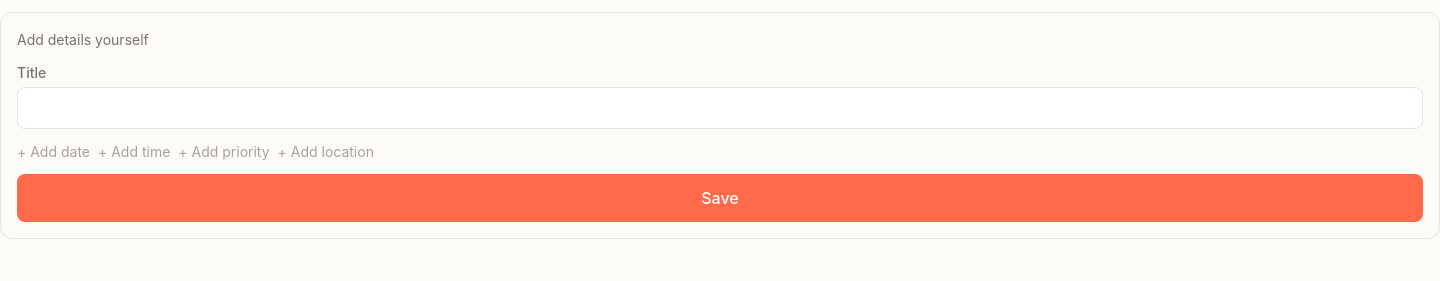
ExtractionForm › manual state › Save with empty title shows inline error
Clear the field labelled "Title" at (720, 108), box x1=17 y1=87 x2=1423 y2=129
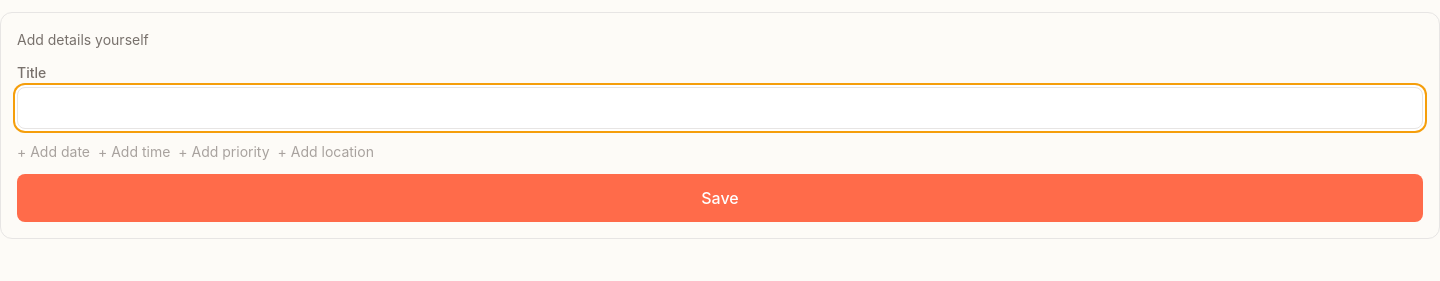
Click the button "Save".
click(720, 198)  # box x1=17 y1=174 x2=1423 y2=222
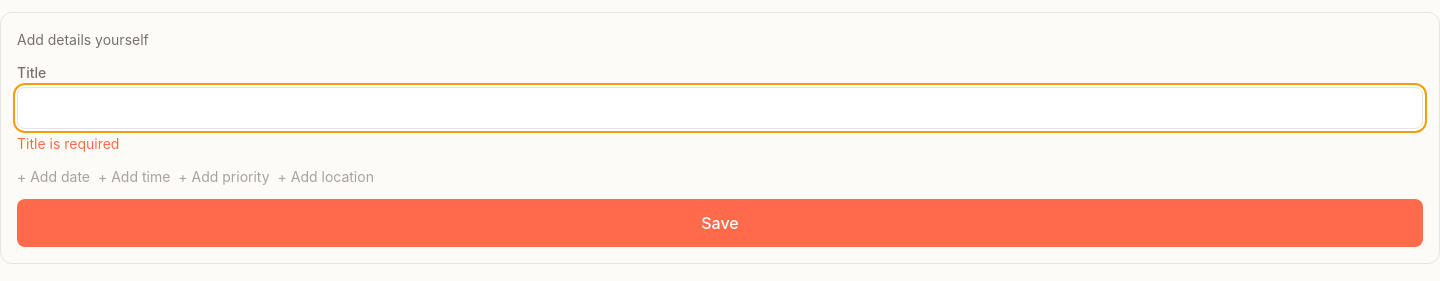
expect the text "Title is required" is shown: met, box x1=17 y1=135 x2=119 y2=152
